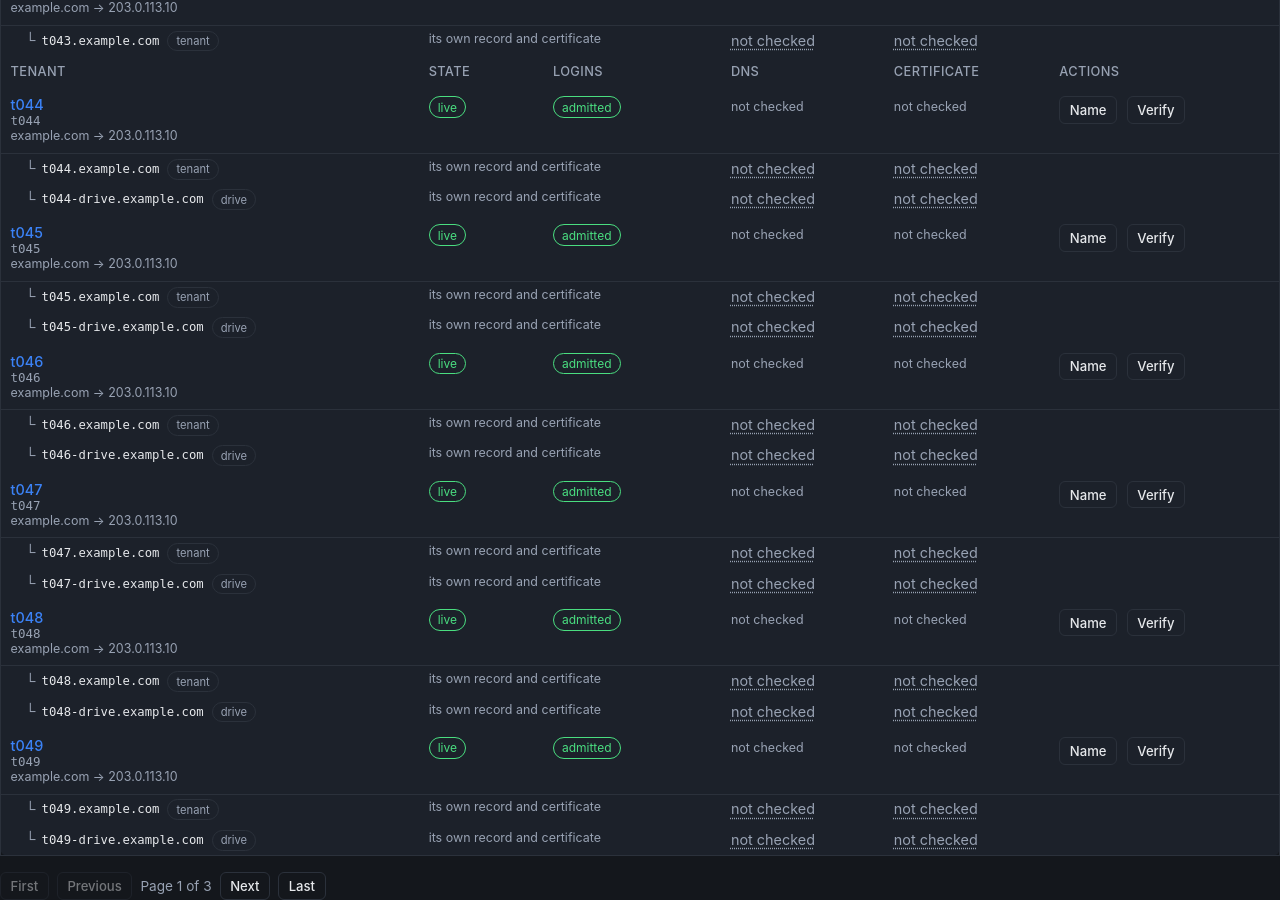
Test: the pager › RESETS TO PAGE ONE when the filter changes
The image size is (1280, 900).
(page scrolled)
Click the button "Last" at {"x": 302, "y": 886}, box [278, 872, 326, 899]
(page scrolled)
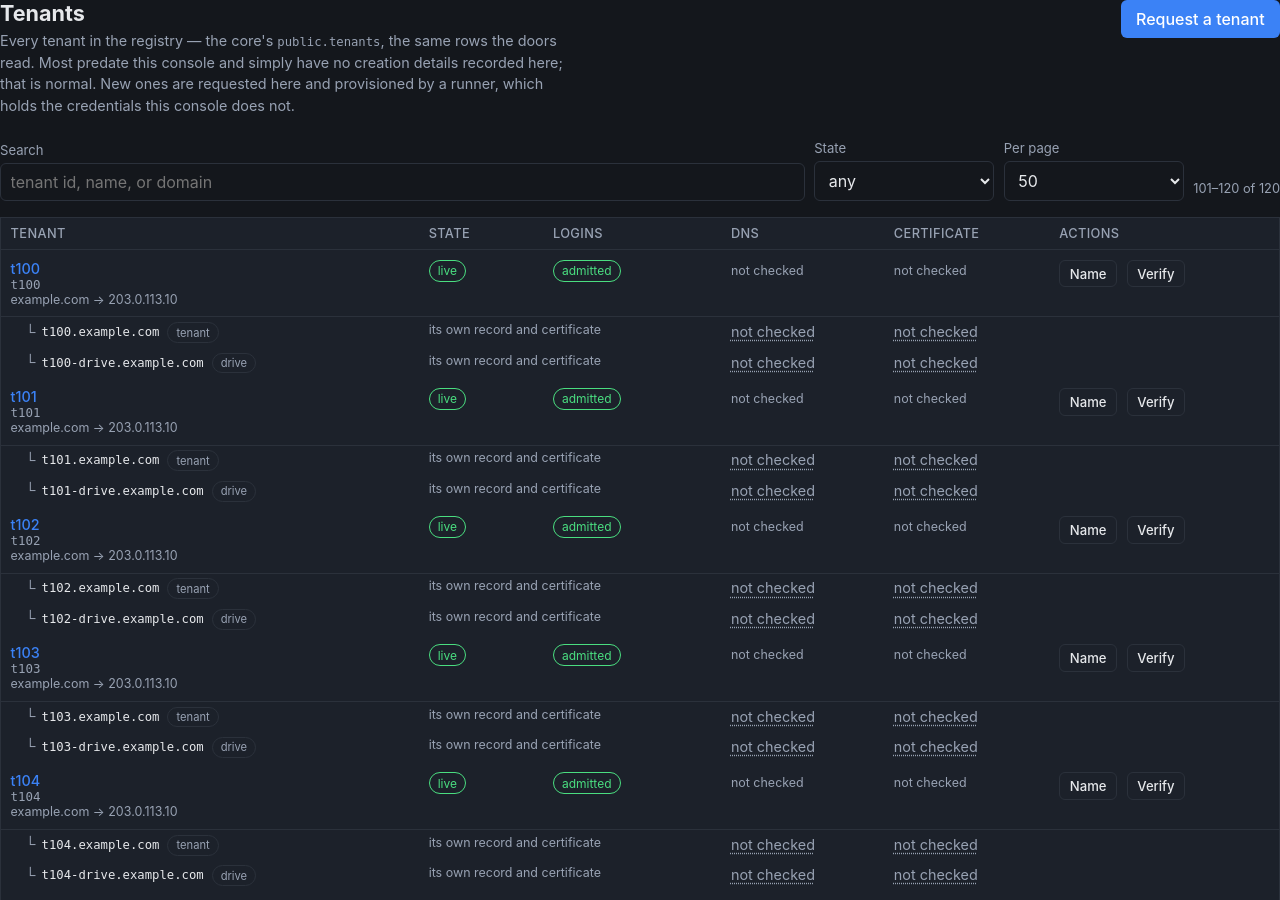
Type "t001" into the search field labelled "Search" at {"x": 402, "y": 182}, box [0, 163, 805, 201]
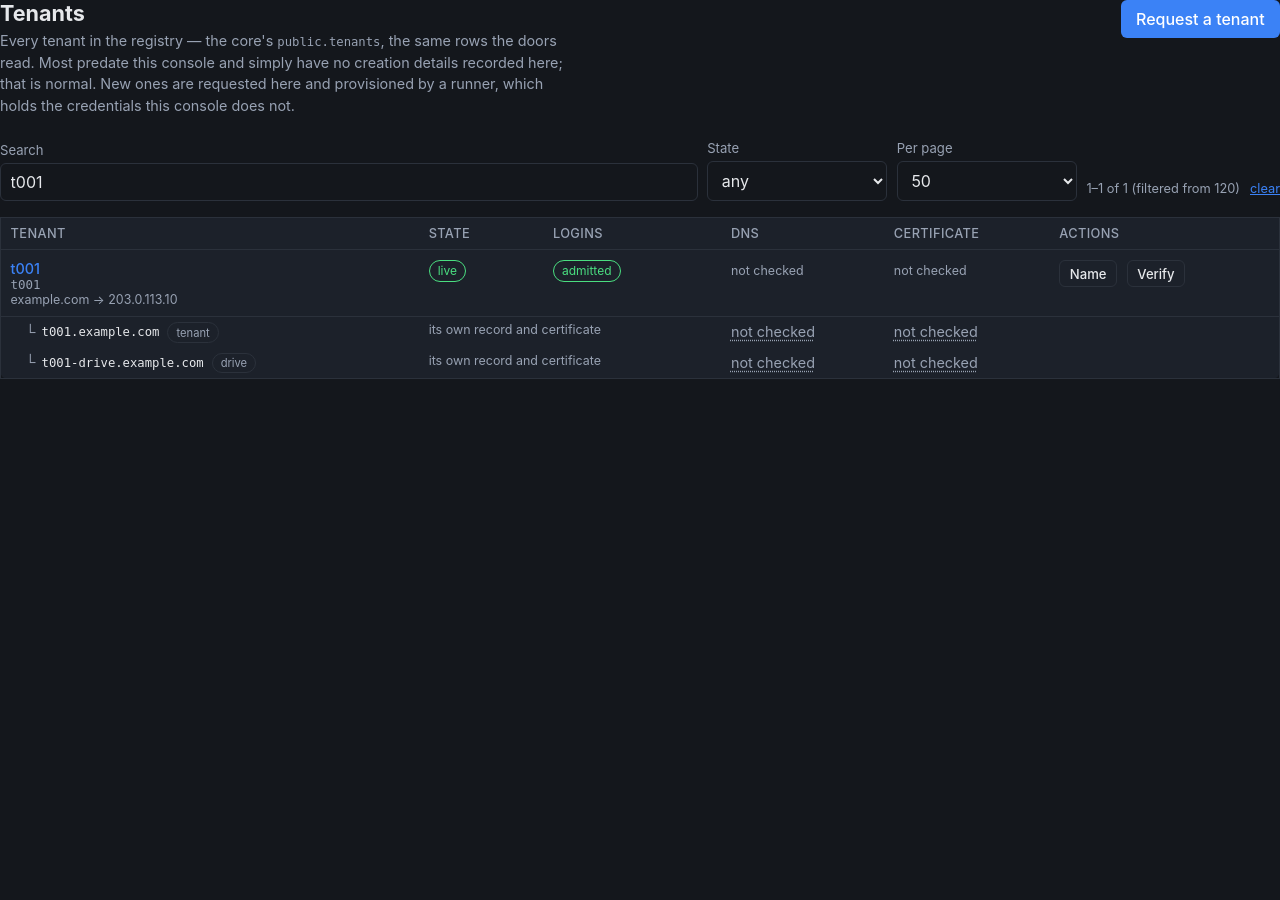
Now the text "t001" is shown, box [11, 260, 40, 277]
